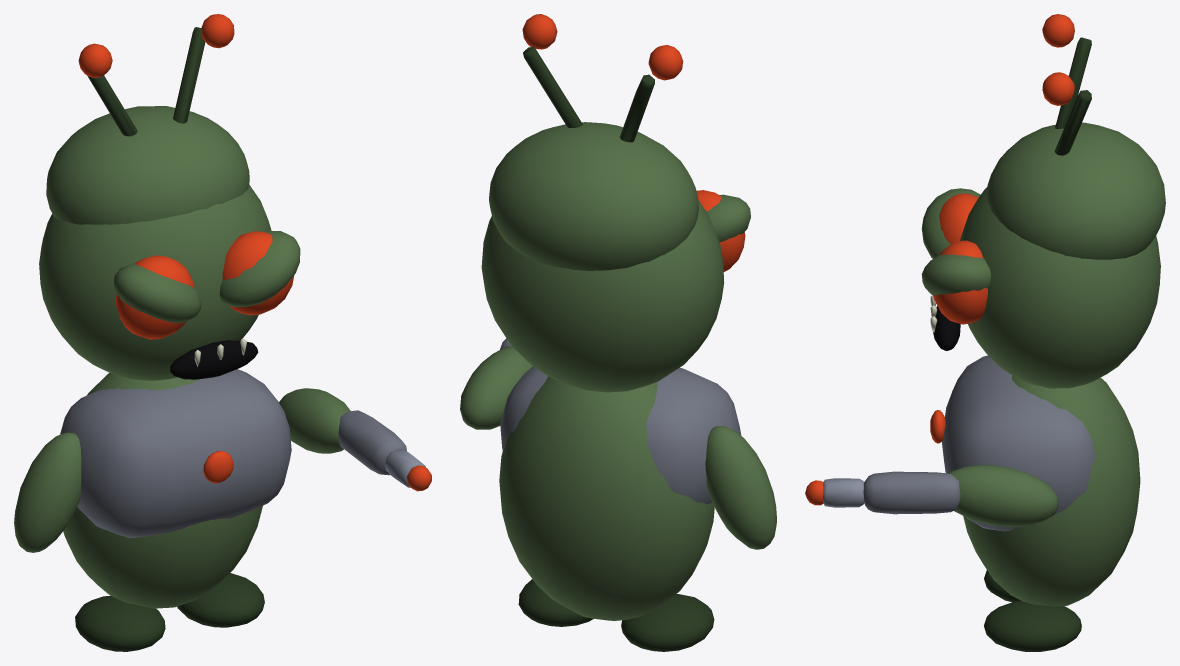
Rendered from Brocken.fbx.
The picture shows the model from 3 angles, left to right: view 1: azimuth 30°, elevation 25°; view 2: azimuth 150°, elevation 25°; view 3: azimuth 270°, elevation 25°; orthographic projection. The views are drawn at different scales.
Visible parts, largest first — view 1: Brocken; view 2: Brocken; view 3: Brocken.
Boxes of the visible parts, x1,y1,x2,y2 form: Brocken: (14,14,431,651); Brocken: (460,14,776,651); Brocken: (805,14,1165,651).
Bounding box in the file's own units: 0.8936 × 1.63 × 0.9219.
